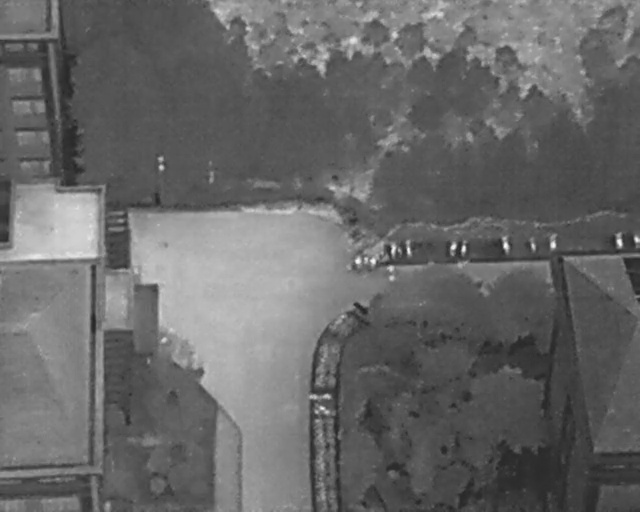Bicycle: (501, 234, 511, 256), (527, 234, 537, 254), (549, 231, 558, 250), (405, 238, 413, 257), (461, 237, 468, 257), (616, 228, 623, 248), (450, 239, 458, 256), (390, 240, 397, 259)
